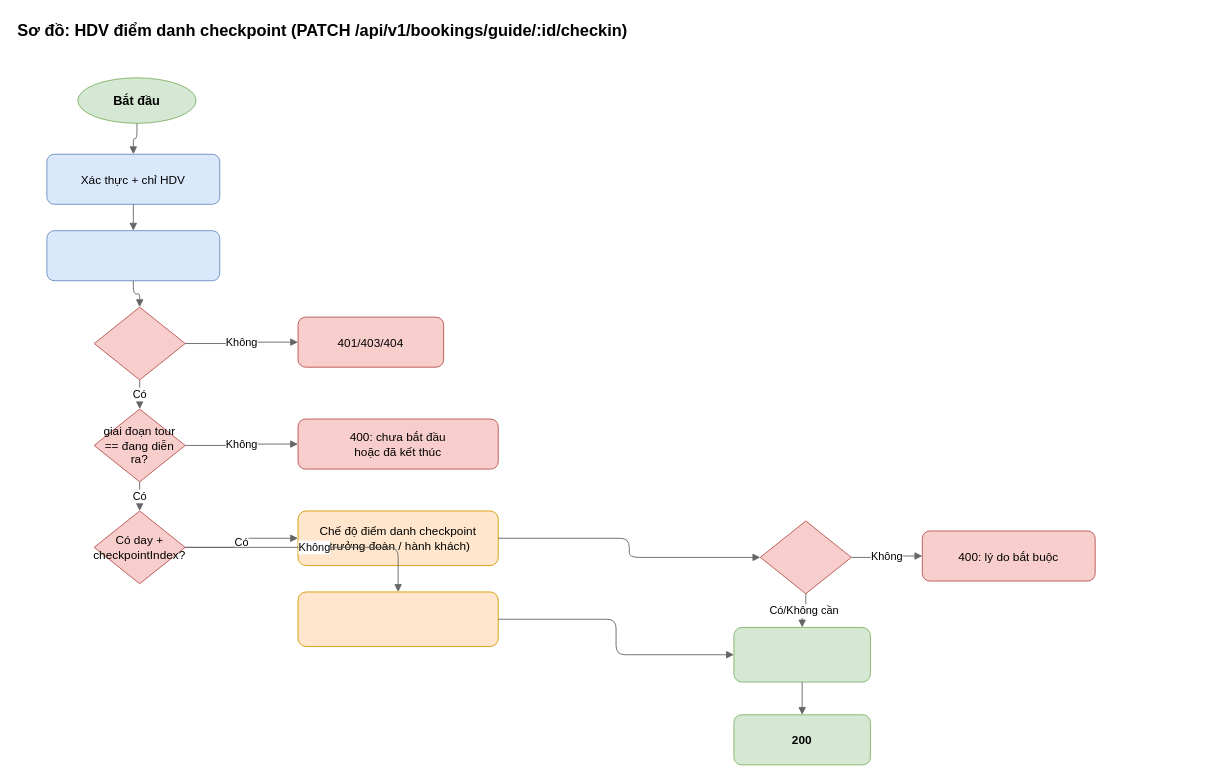
Some shapes in this 1214 by 781 pixel diagram are drawn without their labels. Here are the shapes that lost their labels. From the top down, the centre of each, then its label:
At (x=133, y=255): "Tìm đặt chỗ".
At (x=139, y=343): "Tồn tại và đúng HDV?".
At (x=805, y=557): "Bỏ chọn -> có lý do?".
At (x=397, y=619): "Chế độ cũ (bật/tắt) trưởng đoàn đã điểm danh / hành khách[i]".
At (x=801, y=654): "Cập nhật check-in + lưu".
